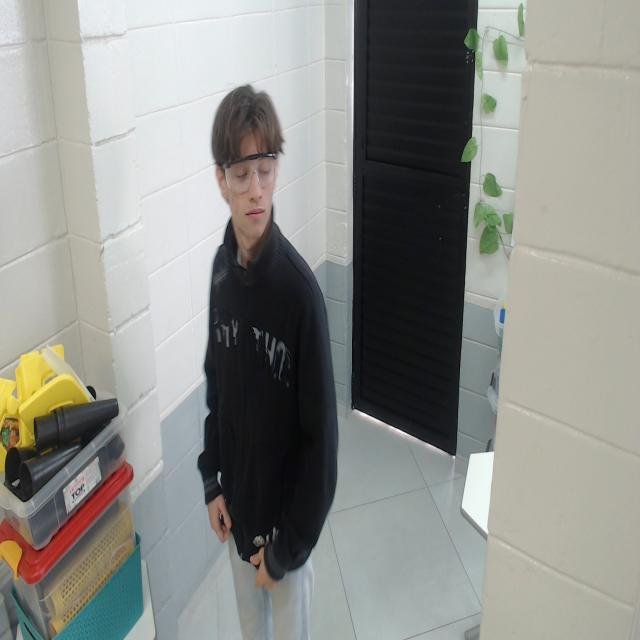oculos-epi: (221, 154, 277, 194)
